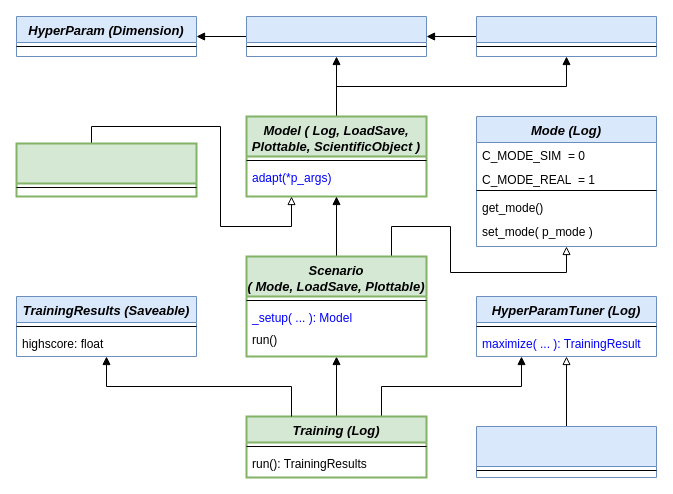
This 673x494 diagram has some shape labels left out. Here are the shapes that lost their labels. From the top down, the centre of each, then its label:
At [336,36]: "HyperParamSpace (ESpace)".
At [566,36]: "HyperParamTupel (Element)".
At [106,169]: "AdaptiveFunction (Model, Function)".
At [566,452]: "WrHPTOptuna (HyperParamTuner)".
